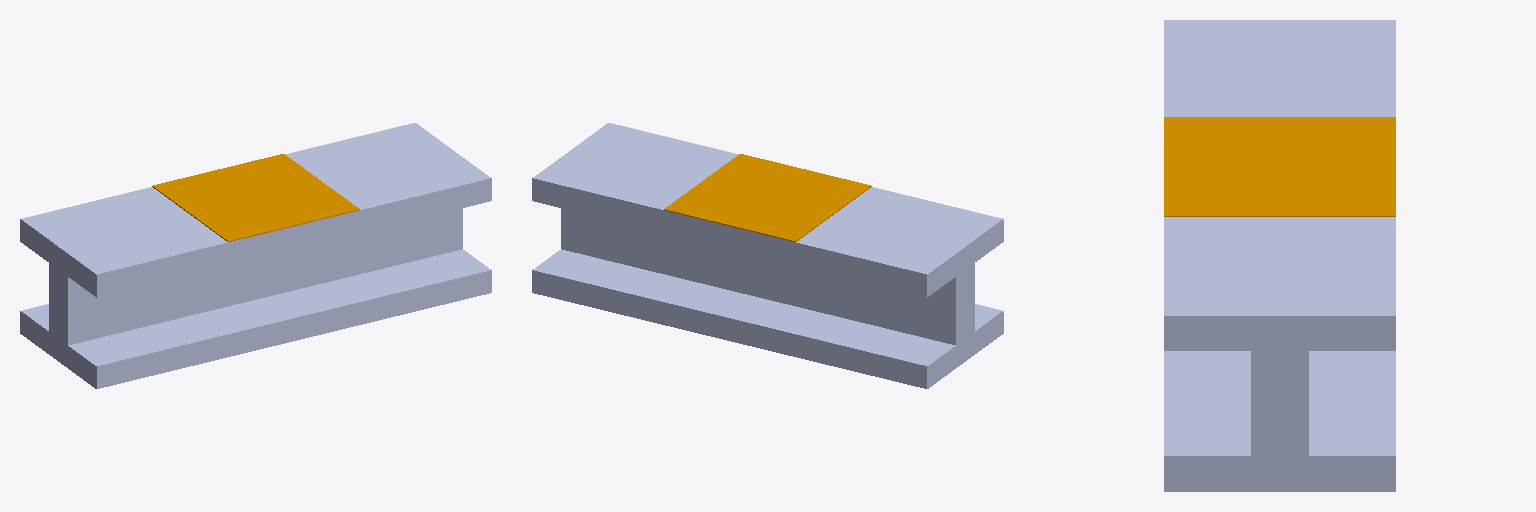
robot.urdf — cube_id_21:
<?xml version="1.0" encoding="utf-8"?>
<!-- This URDF was automatically created by SolidWorks to URDF Exporter! Originally created by Stephen Brawner (brawner@gmail.com) 
     Commit Version: 1.6.0-4-g7f85cfe  Build Version: 1.6.7995.38578
     For more information, please see http://wiki.ros.org/sw_urdf_exporter -->
<robot
  name="cube_id_21">
  <link
    name="marker_id_21">
    <inertial>
      <origin
        xyz="0 -1.38777878078145E-17 -0.0005"
        rpy="0 0 0" />
      <mass
        value="0.0144" />
      <inertia
        ixx="1.72812E-05"
        ixy="9.03501810404588E-22"
        ixz="3.15455971063861E-36"
        iyy="1.72812E-05"
        iyz="-6.03286077576028E-20"
        izz="3.456E-05" />
    </inertial>
    <visual>
      <origin
        xyz="0 0 0"
        rpy="0 0 0" />
      <geometry>
        <mesh
          filename="package://robot_custom_description/models/markers/marker_21.dae" />
      </geometry>
    </visual>
  </link>
  <link
    name="cube_id_21/cube_link">
    <inertial>
      <origin
        xyz="-2.7756E-17 2.0817E-17 6.9389E-18"
        rpy="0 0 0" />
      <mass
        value="0.5" />
      <inertia
        ixx="0.005139"
        ixy="-1.1571E-18"
        ixz="-2.4821E-19"
        iyy="0.028678"
        iyz="3.4397E-18"
        izz="0.027783" />
    </inertial>
    <visual>
      <origin
        xyz="0 0 0"
        rpy="0 0 0" />
      <geometry>
        <mesh
          filename="package://robot_custom_description/models/cube_id_21/meshes/cube_link.STL" />
      </geometry>
      <material
        name="">
        <color
          rgba="0.79216 0.81961 0.93333 1" />
      </material>
    </visual>
    <collision>
      <origin
        xyz="0 0 0"
        rpy="0 0 0" />
      <geometry>
        <mesh
          filename="package://robot_custom_description/models/cube_id_21/meshes/cube_link.STL" />
      </geometry>
    </collision>
  </link>
  <joint
    name="cube_id_21/cube_joint"
    type="fixed">
    <origin
      xyz="0 0 -0.051"
      rpy="0 0 0" />
    <parent
      link="marker_id_21" />
    <child
      link="cube_id_21/cube_link" />
    <axis
      xyz="0 0 0" />
  </joint>
</robot>

--- Facts derived from the render (not from the file) ---
3 views of the same robot in one strip: view 1: azimuth 30°, elevation 25°; view 2: azimuth 150°, elevation 25°; view 3: azimuth 270°, elevation 25° (orthographic).
Robot: cube_id_21 — 2 links, 1 joints (1 fixed); root link marker_id_21; default pose: all joints at 0.
Visible links, largest first — view 1: cube_id_21/cube_link, marker_id_21; view 2: cube_id_21/cube_link, marker_id_21; view 3: cube_id_21/cube_link, marker_id_21.
Boxes of the visible links, x1=… form: cube_id_21/cube_link: x1=20, y1=123, x2=491, y2=388; marker_id_21: x1=152, y1=154, x2=359, y2=241; cube_id_21/cube_link: x1=532, y1=123, x2=1003, y2=388; marker_id_21: x1=664, y1=154, x2=871, y2=241; cube_id_21/cube_link: x1=1164, y1=20, x2=1395, y2=491; marker_id_21: x1=1164, y1=117, x2=1395, y2=216.
Bounding box of the posed robot: 0.36 × 0.12 × 0.101 m (x, y, z).
2 mesh visuals loaded from 2 distinct referenced files (1 binary STL, 1 Collada DAE).
